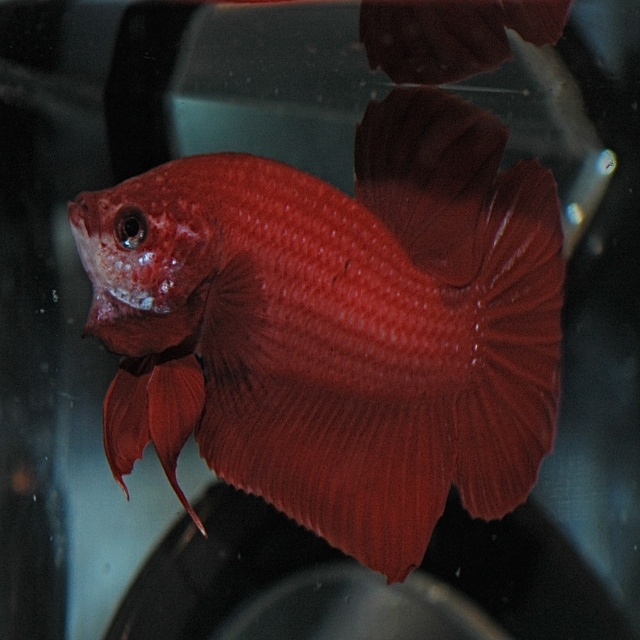Fish: (35, 118, 571, 585)
